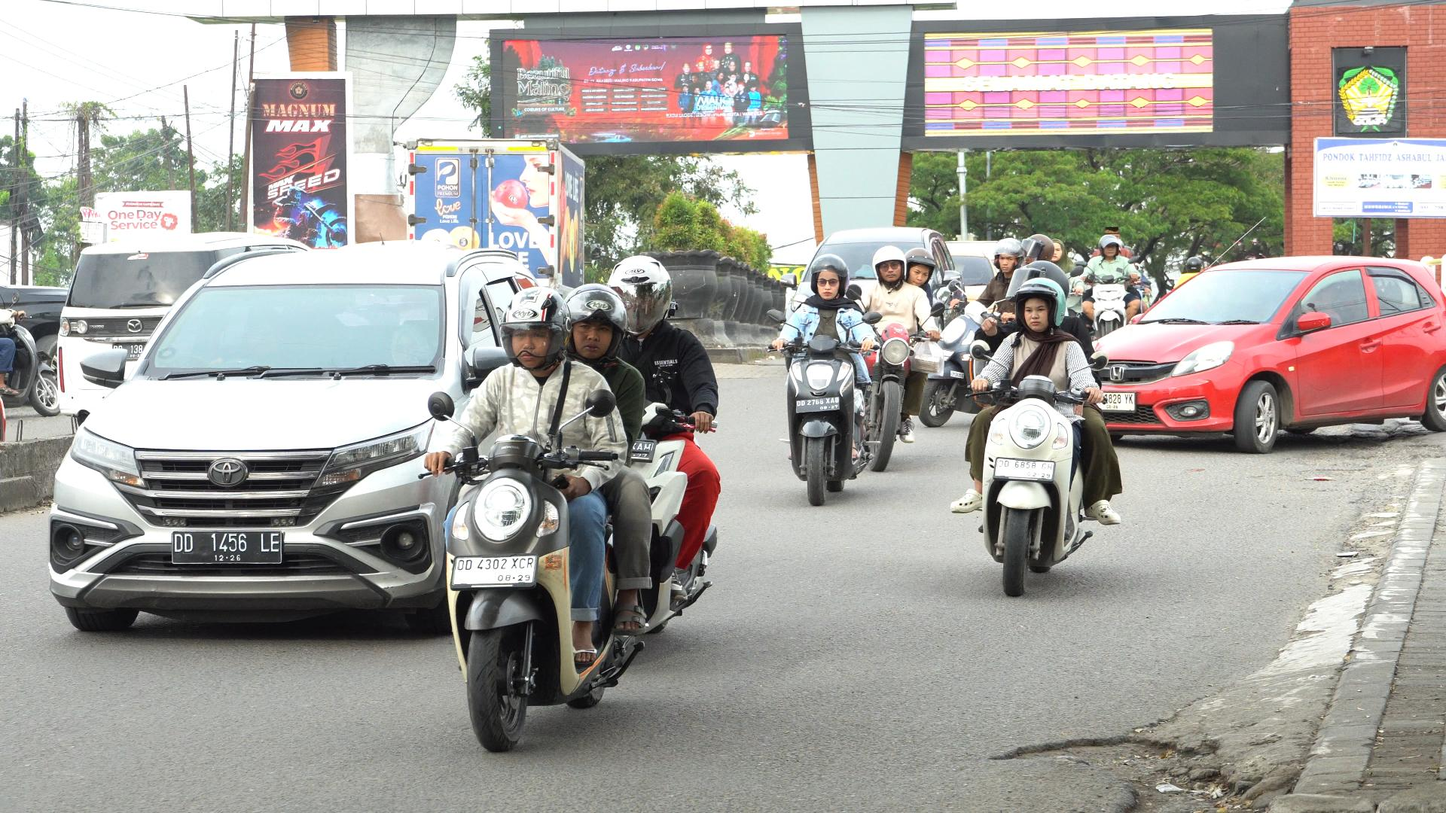number-plate: (449, 553, 535, 586), (991, 453, 1056, 481), (792, 396, 844, 413)
